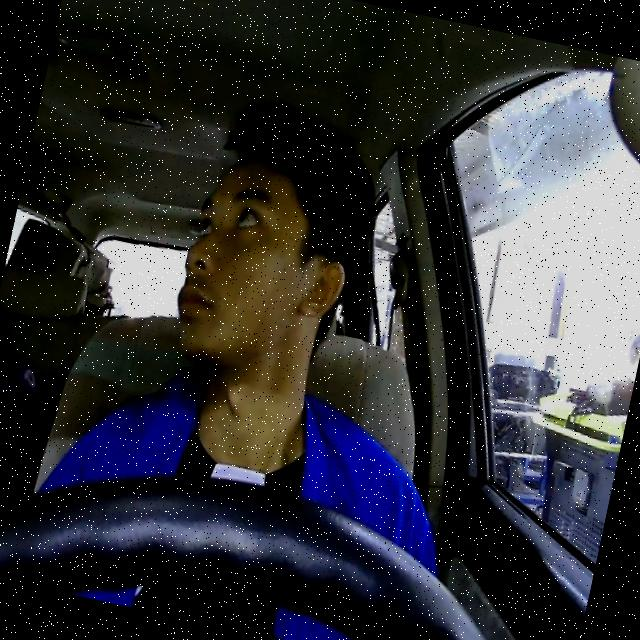seeing_left: (163, 140, 367, 387)
